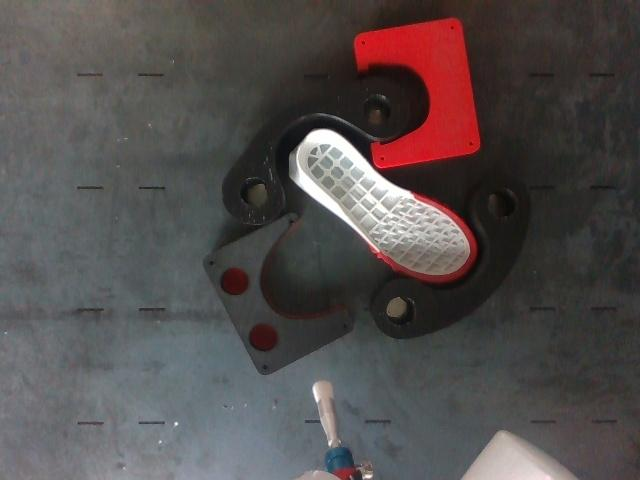shoes: (297, 129, 475, 279)
